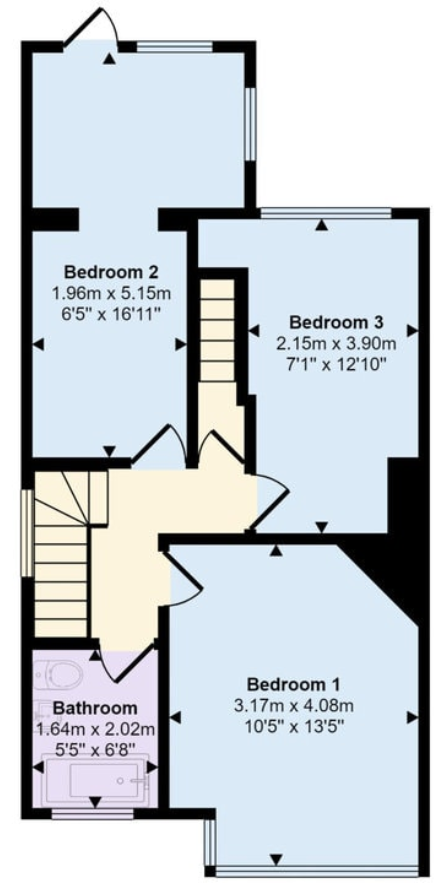bathtub: (40, 752, 150, 807)
door: (98, 635, 155, 685), (157, 552, 206, 607), (62, 4, 117, 52), (249, 473, 294, 529), (135, 422, 184, 469), (200, 430, 242, 471)
toilet: (33, 659, 86, 695)
window: (215, 863, 419, 878), (259, 204, 393, 220), (20, 490, 35, 576), (241, 85, 257, 163), (136, 39, 213, 55), (50, 808, 134, 820), (201, 818, 217, 864)
